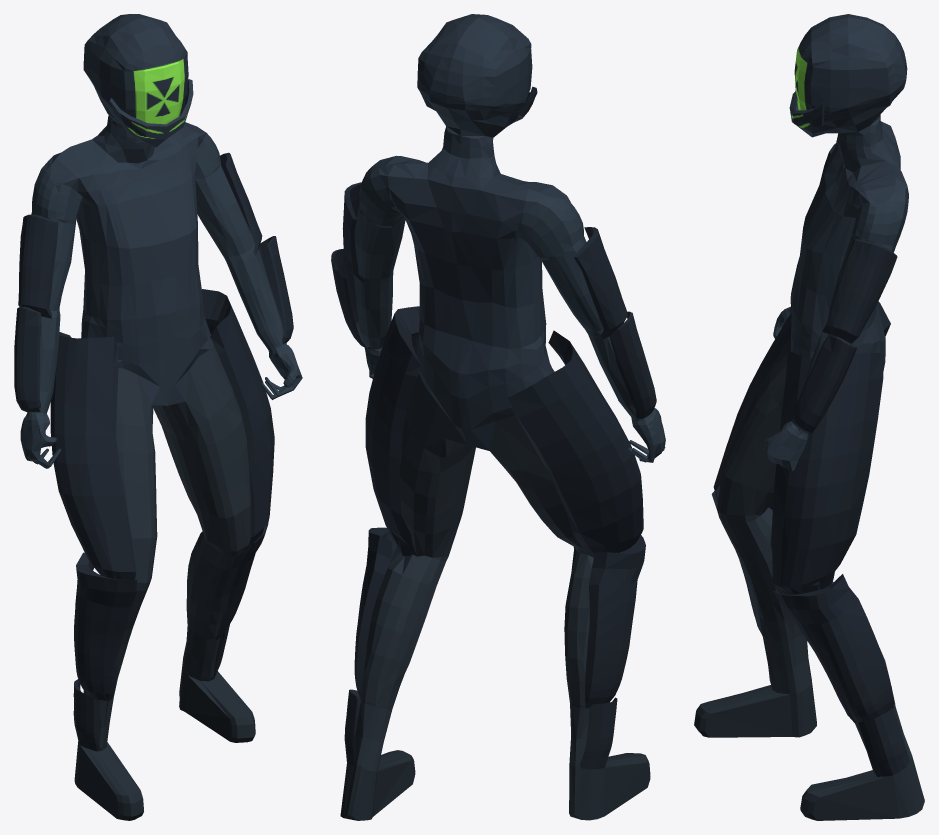
File: Bastion_Stun_Recover_000004.obj
3 views of the same model, side by side, from view 1: azimuth 30°, elevation 25°; view 2: azimuth 150°, elevation 25°; view 3: azimuth 270°, elevation 25° (orthographic). The views are drawn at different scales.
Parts seen in each view (by area): view 1: Cube.002; view 2: Cube.002; view 3: Cube.002.
Boxes of the visible parts, <box> form: Cube.002: <box>14,14,302,820</box>; Cube.002: <box>331,14,665,820</box>; Cube.002: <box>694,14,924,820</box>.
Size of the model in its own units: 1.5 by 3.77 by 1.05.
